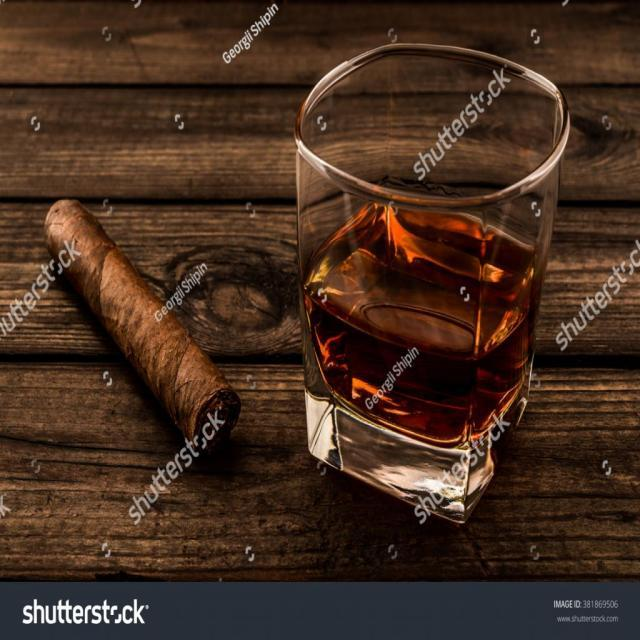smoking: (26, 183, 256, 461)
